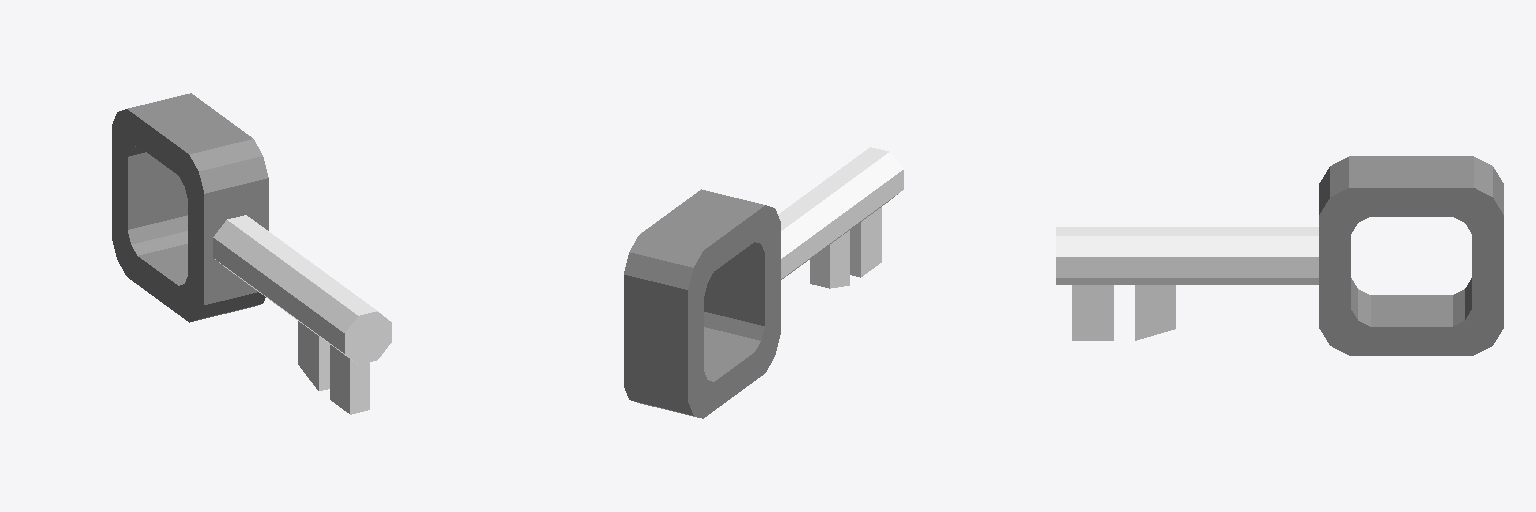
Rendered from key.obj.
The picture shows the model from 3 angles: view 1: azimuth 30°, elevation 25°; view 2: azimuth 150°, elevation 25°; view 3: azimuth 270°, elevation 25°; orthographic projection.
Parts seen in each view (by area): view 1: Cube.001, Cube.002; view 2: Cube.001, Cube.002; view 3: Cube.001, Cube.002.
Boxes of the visible parts, box(x1,y1,x2,y2) form: Cube.001: box(112, 93, 268, 322); Cube.002: box(213, 215, 391, 414); Cube.001: box(624, 189, 780, 418); Cube.002: box(778, 147, 903, 288); Cube.001: box(1319, 156, 1503, 355); Cube.002: box(1056, 227, 1318, 340).
Size of the model in its own units: 0.8028 by 2 by 4.84.